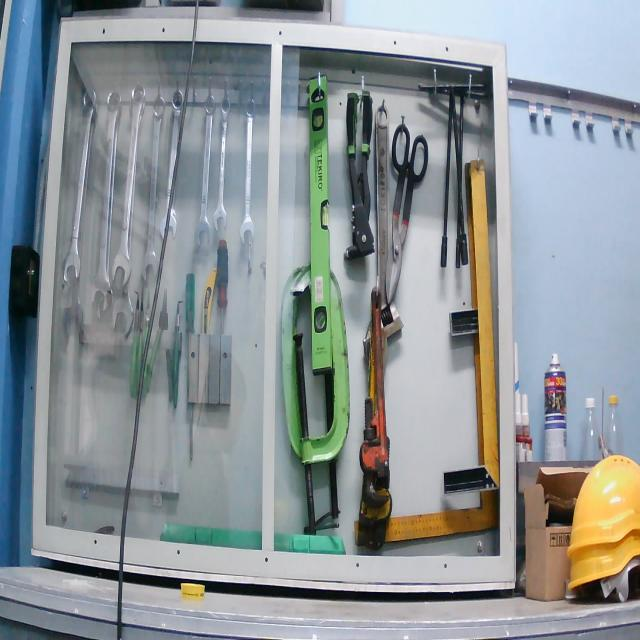water_pass: (307, 72, 335, 376)
